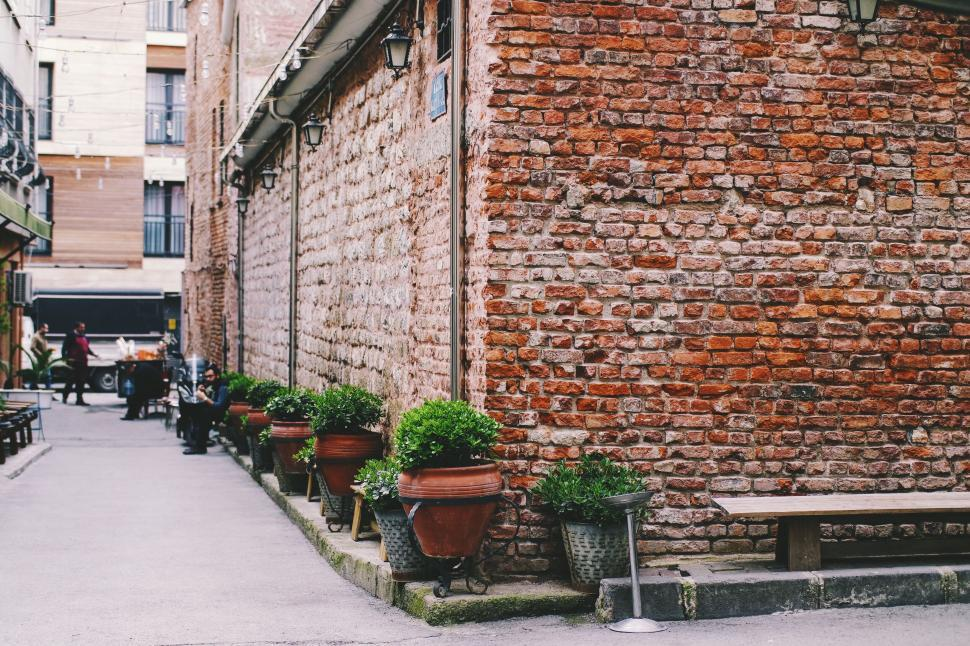Wall: (531, 18, 954, 458), (303, 157, 442, 385)
